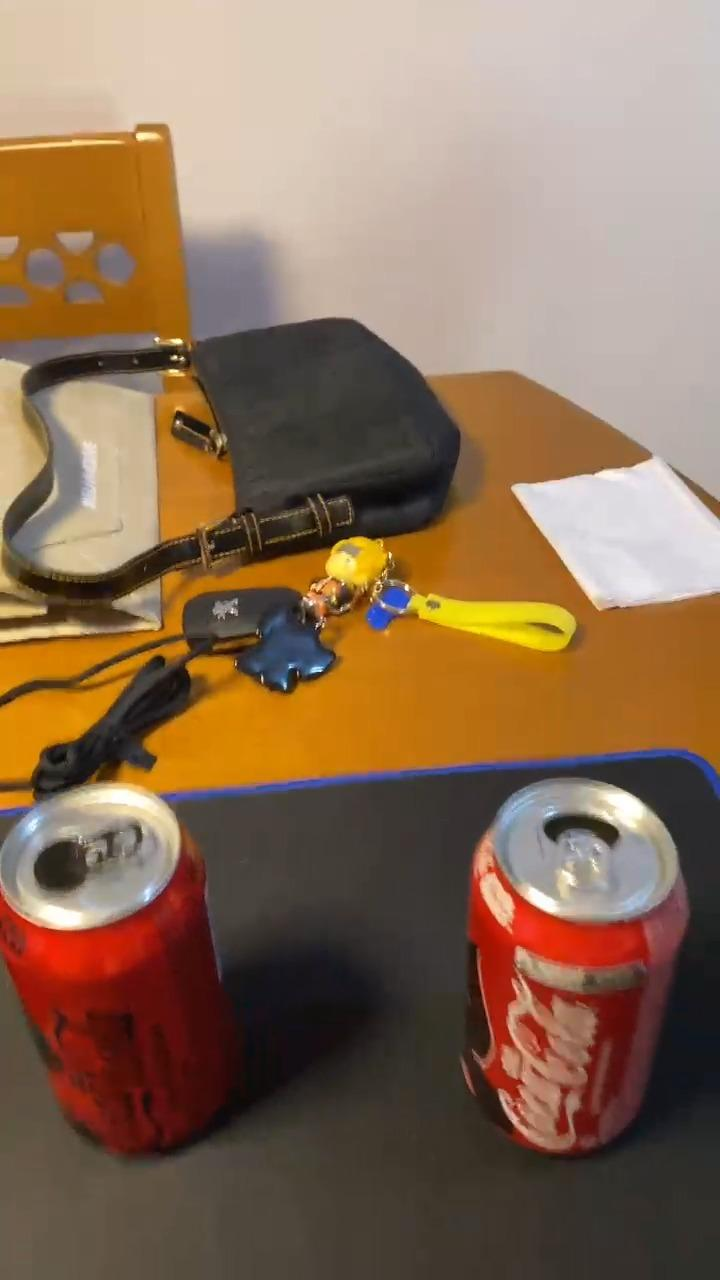coke: (0, 787, 242, 1157), (462, 775, 689, 1152)
